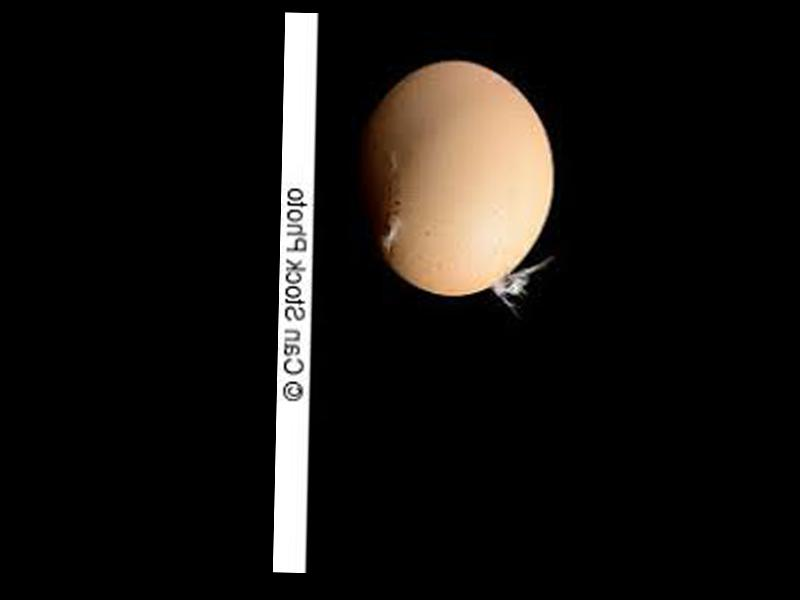Eggs: (355, 58, 554, 297)
